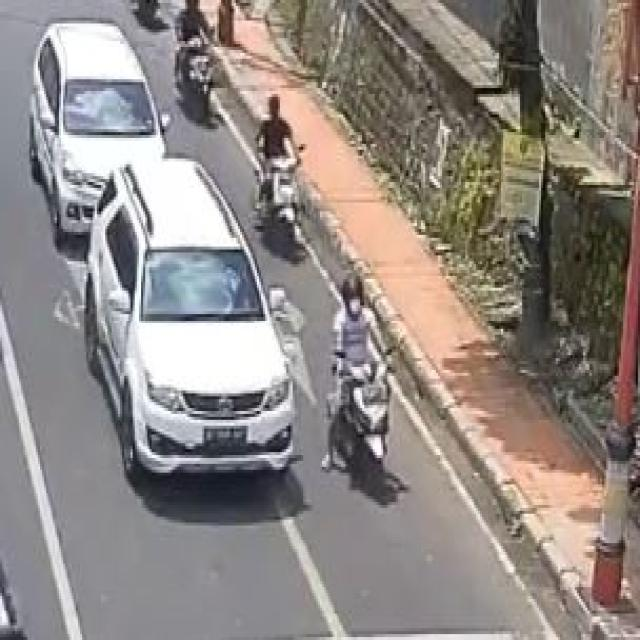car: (78, 147, 298, 496), (25, 23, 171, 254)
motorbike: (320, 276, 393, 502), (244, 101, 316, 253), (173, 1, 225, 120)
